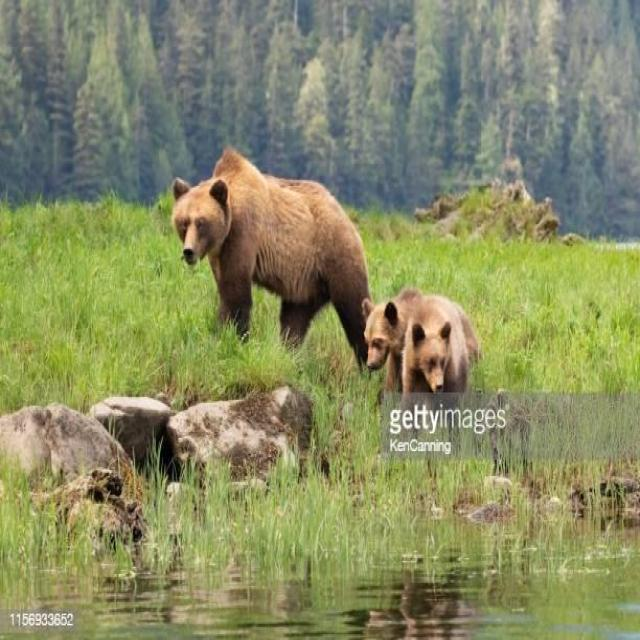Bear: (170, 149, 373, 363), (397, 309, 480, 395), (364, 289, 422, 391)
